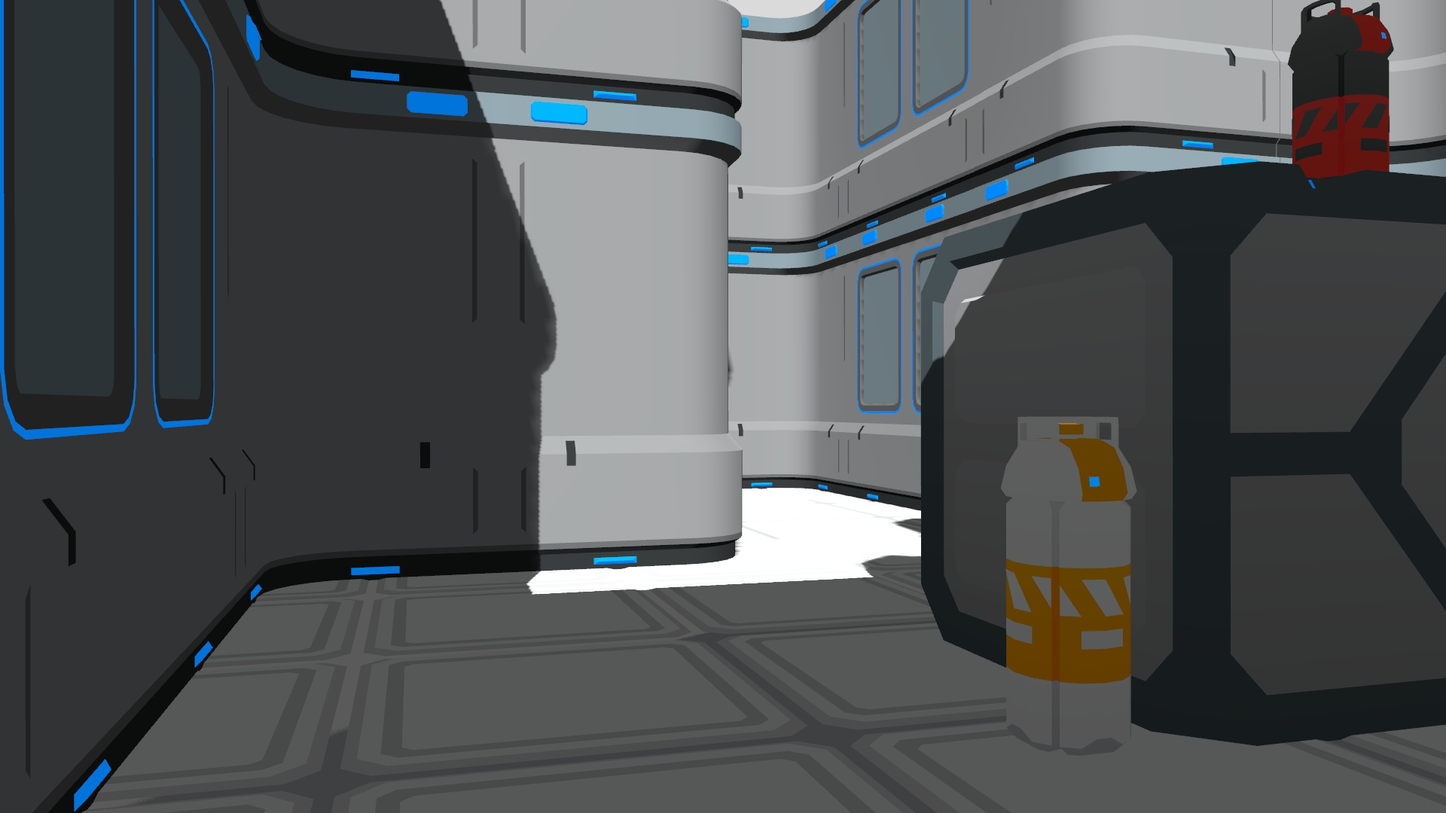red_barrel: (1283, 0, 1401, 189)
yellow_barrel: (996, 406, 1139, 759)
